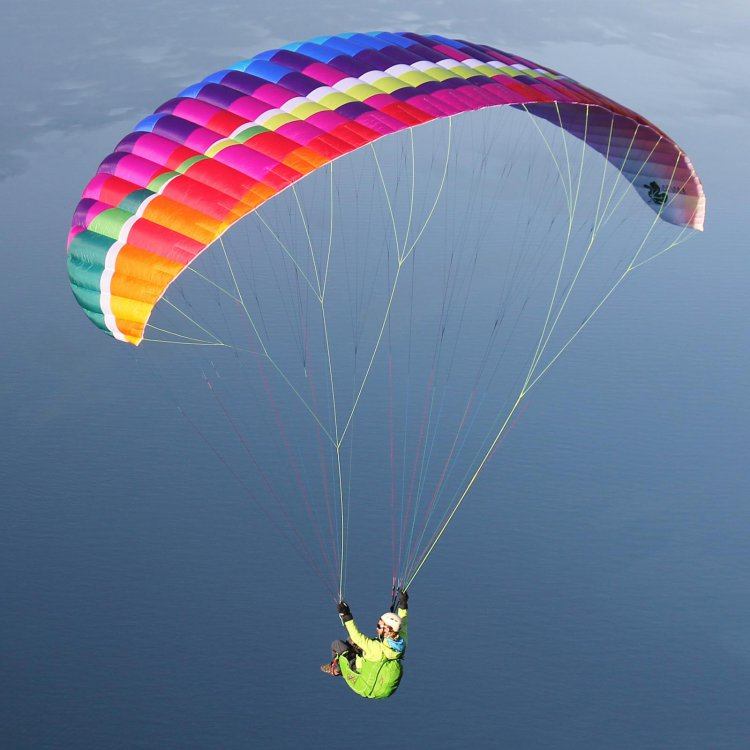Paraglider: (60, 23, 719, 336)
